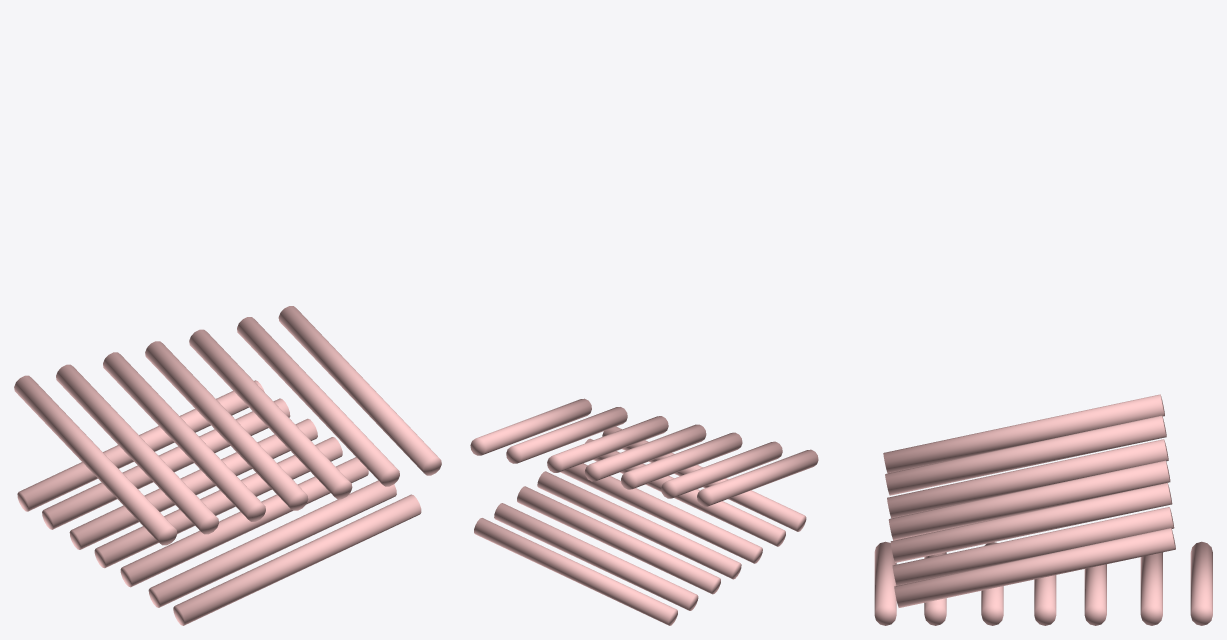
Rendered from waffle.obj.
The picture shows the model from 3 angles, left to right: view 1: azimuth 30°, elevation 25°; view 2: azimuth 150°, elevation 25°; view 3: azimuth 270°, elevation 25°; orthographic projection. The views are drawn at different scales.
Visible parts, largest first — view 1: Cylinder; view 2: Cylinder; view 3: Cylinder.
Boxes of the visible parts, box(x1,y1,x2,y2) form: Cylinder: box(14, 306, 441, 625); Cylinder: box(470, 398, 818, 625); Cylinder: box(874, 394, 1212, 625).
Size of what is drawn, in the model's own units: 3.12 by 5.91 by 3.29.
